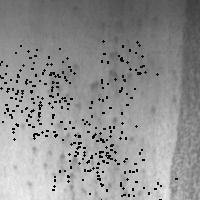pitted_surface: (24, 38, 147, 195), (171, 1, 199, 198), (82, 121, 142, 179), (15, 45, 73, 104), (52, 131, 111, 189), (0, 61, 56, 121), (68, 98, 126, 154), (101, 40, 156, 99), (12, 81, 70, 135), (78, 147, 136, 200), (0, 79, 52, 138), (123, 171, 180, 200)
